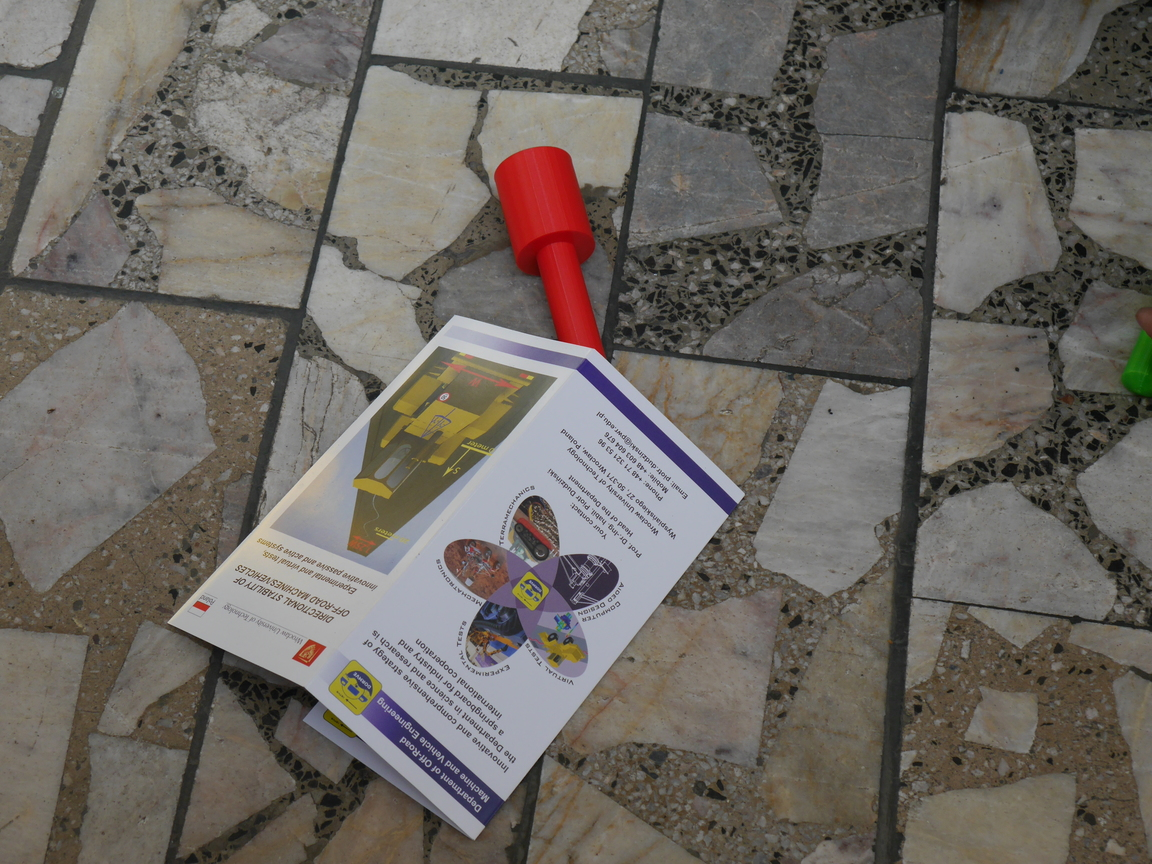cargo_g: (491, 147, 606, 366)
